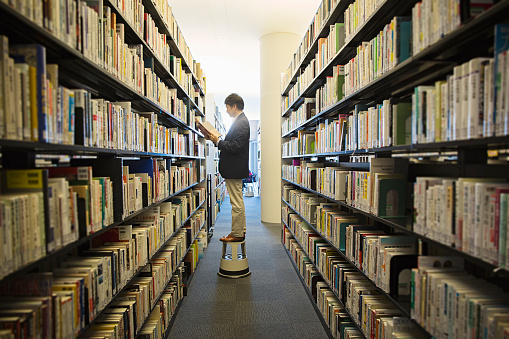em pe: (217, 85, 253, 252)
